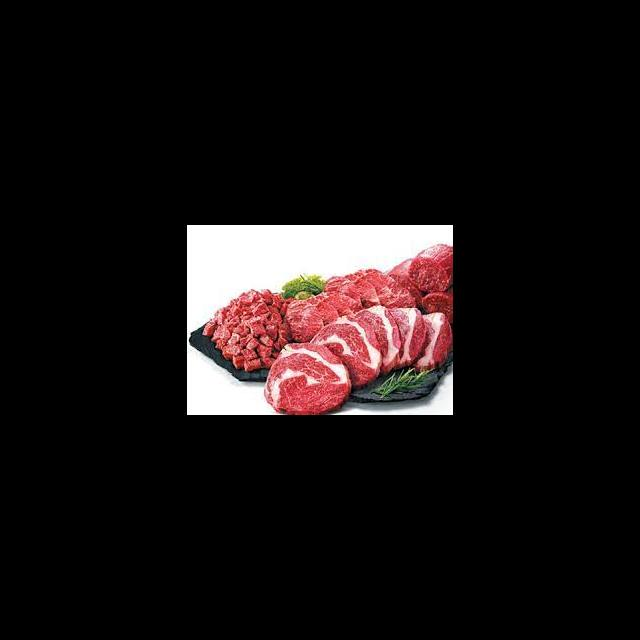beef: (270, 341, 350, 415), (361, 307, 427, 367), (338, 269, 401, 310), (224, 295, 281, 340), (283, 295, 337, 342), (409, 242, 453, 293)
